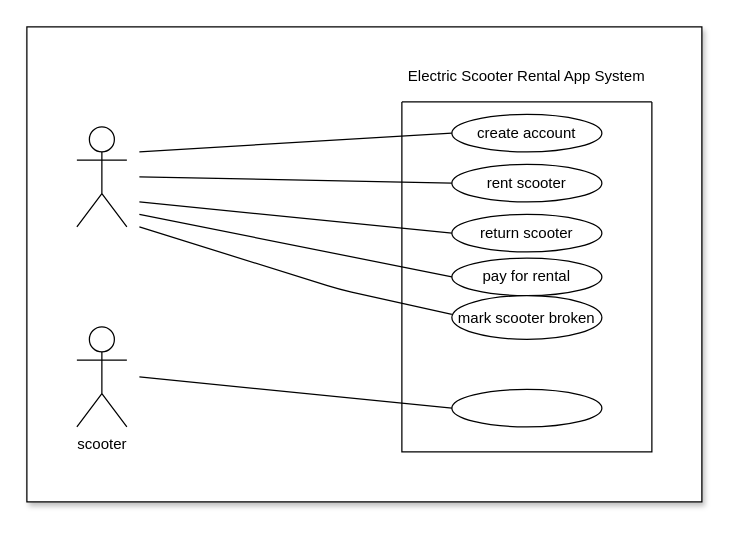
Some shapes in this 731 by 533 pixel diagram are drawn without their labels. The shapes that lost their labels are listed below. From the top down, each one's centre as x and y in pixels, then its label:
At (x=101, y=176): "user".
At (x=526, y=407): "recharge battery".
